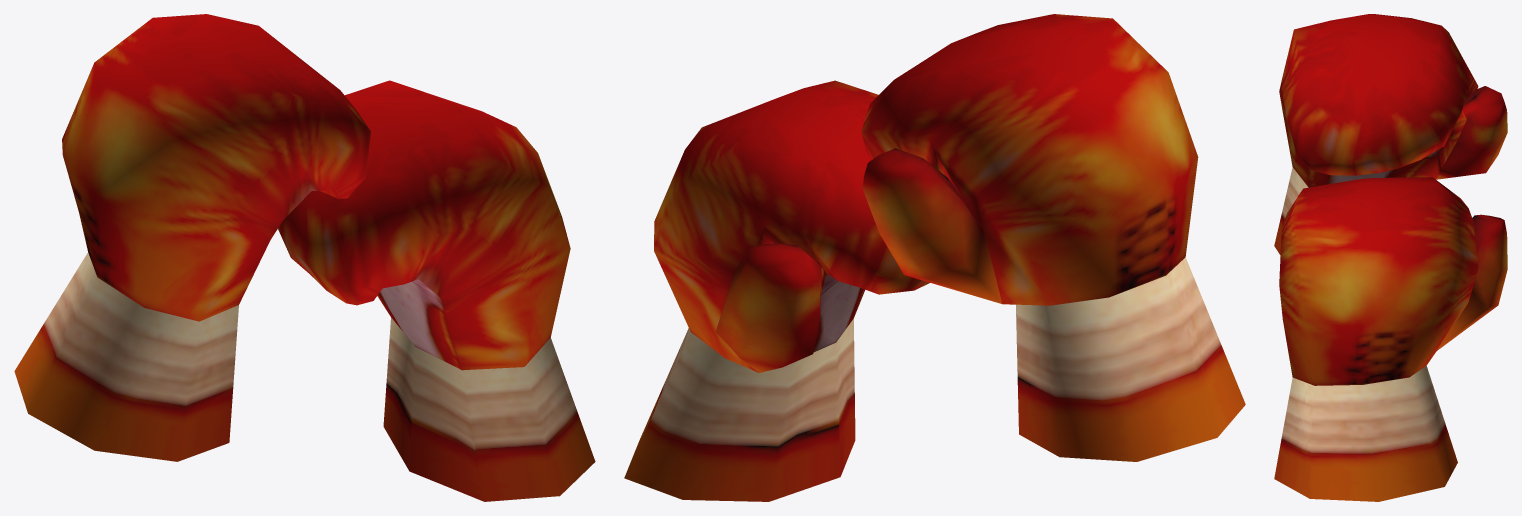
Rendered from view.ico.obj.
The picture shows the model from 3 angles, left to right: view 1: azimuth 30°, elevation 25°; view 2: azimuth 150°, elevation 25°; view 3: azimuth 270°, elevation 25°; orthographic projection. The views are drawn at different scales.
Bounding box in the file's own units: 2.99 × 2.51 × 1.51.
1 material, 1 textured.
